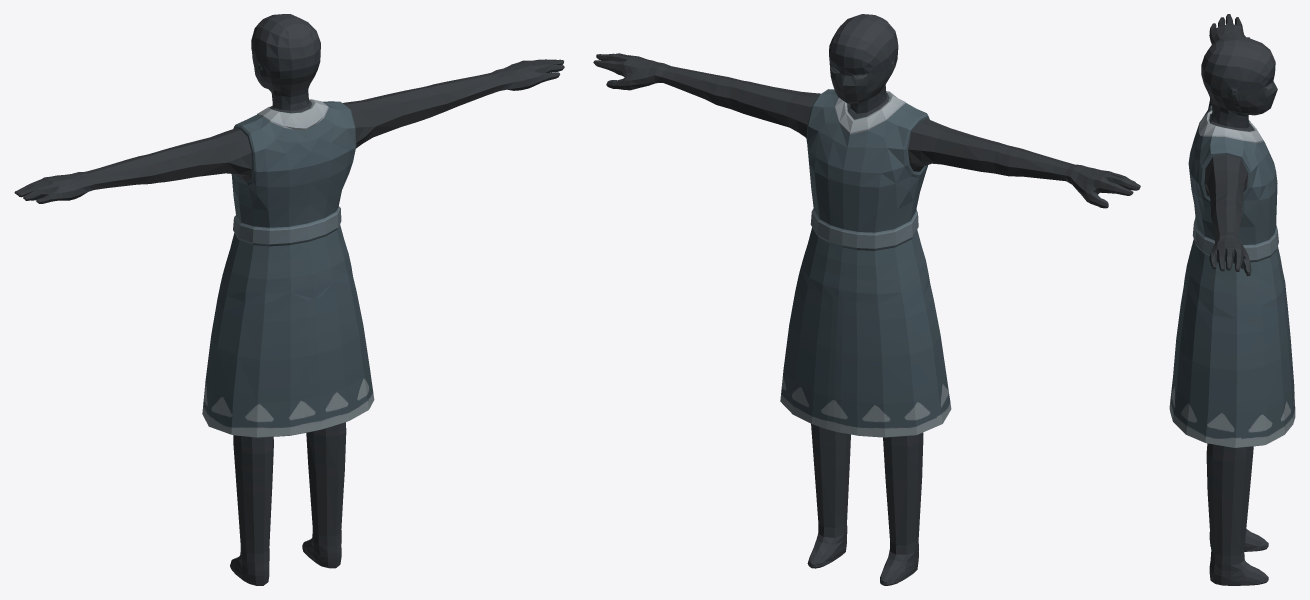
The model's file is NPC_CivilianFemaleBody.glb.
The picture shows the model from 3 angles, left to right: view 1: azimuth 30°, elevation 25°; view 2: azimuth 150°, elevation 25°; view 3: azimuth 270°, elevation 25°; orthographic projection. The views are drawn at different scales.
Parts seen in each view (by area): view 1: NPC_CivilianFemaleBody; view 2: NPC_CivilianFemaleBody; view 3: NPC_CivilianFemaleBody.
Boxes of the visible parts, x1=… form: NPC_CivilianFemaleBody: x1=14, y1=14, x2=564, y2=585; NPC_CivilianFemaleBody: x1=593, y1=14, x2=1140, y2=585; NPC_CivilianFemaleBody: x1=1169, y1=14, x2=1295, y2=585.
Size of the model in its own units: 14.22 by 13.68 by 2.98.
Materials: 1 (1 with a texture image).
